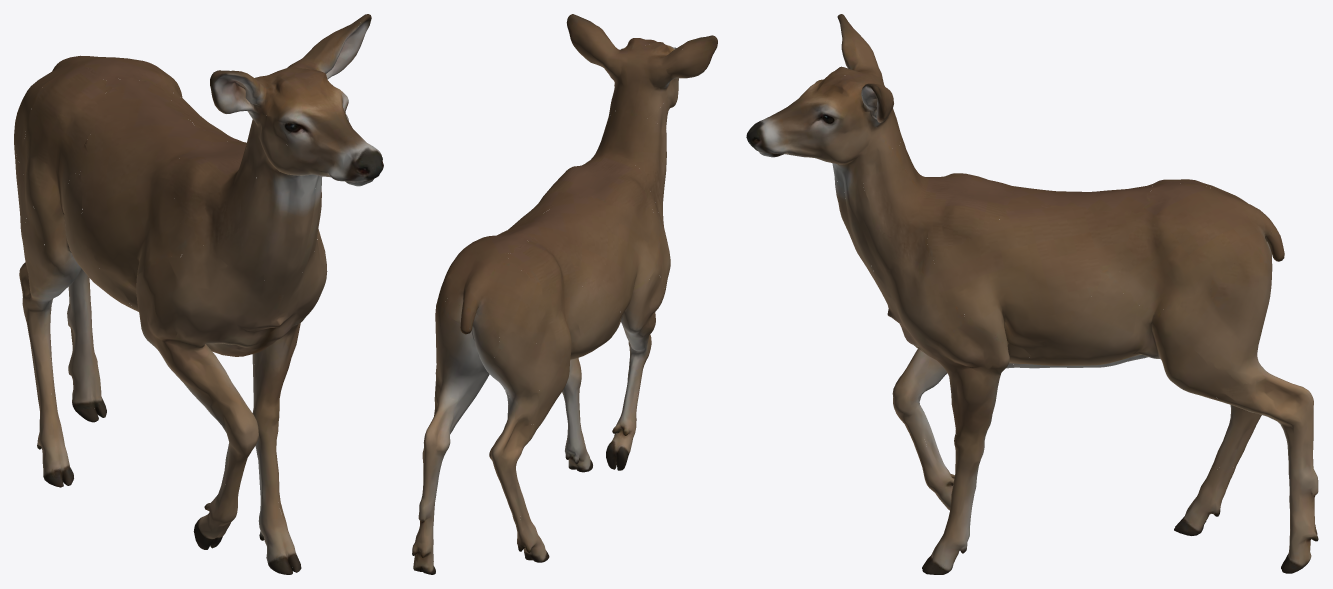
The model's file is deer.glb.
The picture shows the model from 3 angles, left to right: view 1: azimuth 30°, elevation 25°; view 2: azimuth 150°, elevation 25°; view 3: azimuth 270°, elevation 25°; orthographic projection. The views are drawn at different scales.
Visible parts, largest first — view 1: tripo_node_d3f093fd-8c7a-4ce8-946c-3c37471d4f44; view 2: tripo_node_d3f093fd-8c7a-4ce8-946c-3c37471d4f44; view 3: tripo_node_d3f093fd-8c7a-4ce8-946c-3c37471d4f44.
Part boxes in pixels (x1=…): tripo_node_d3f093fd-8c7a-4ce8-946c-3c37471d4f44: x1=14, y1=14, x2=383, y2=574; tripo_node_d3f093fd-8c7a-4ce8-946c-3c37471d4f44: x1=412, y1=14, x2=717, y2=574; tripo_node_d3f093fd-8c7a-4ce8-946c-3c37471d4f44: x1=746, y1=14, x2=1318, y2=574.
Size of the model in its own units: 0.3231 by 0.9743 by 1.
1 material, 1 textured.
